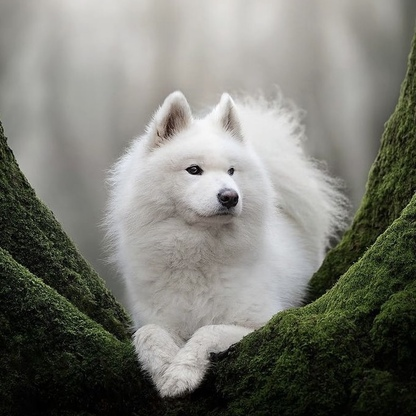samoyed: (96, 85, 356, 402)
